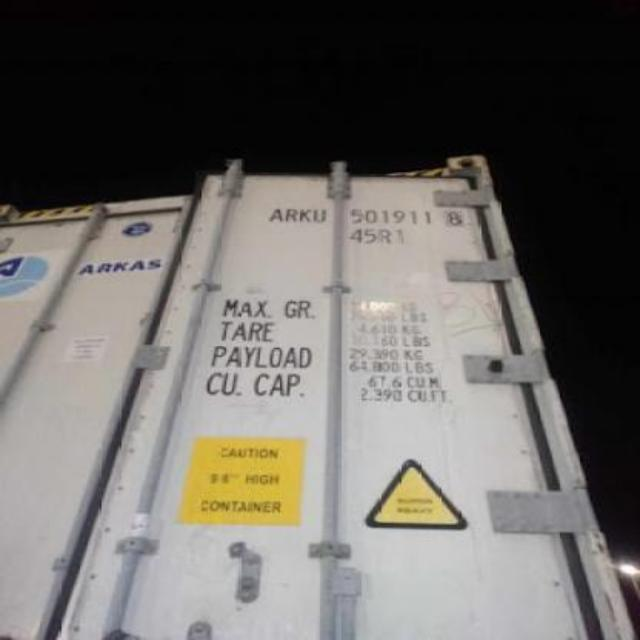0: (364, 210, 378, 223)
1: (408, 210, 422, 226), (422, 210, 434, 226), (380, 210, 390, 223)
5: (348, 208, 362, 224)
8: (446, 212, 459, 225)
9: (391, 210, 404, 226)
A: (268, 208, 282, 222)
K: (300, 208, 312, 224)
R: (286, 208, 298, 222)
U: (312, 208, 326, 224)
